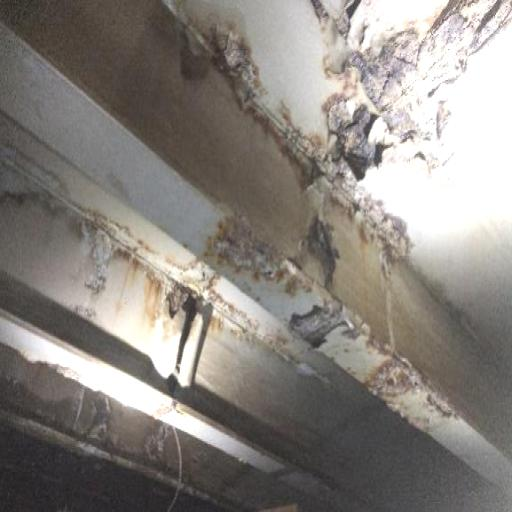Detect-rust-on-metal-surfaces: (1, 134, 355, 406), (168, 0, 511, 268), (359, 358, 455, 416), (76, 382, 119, 454), (131, 417, 182, 470)
